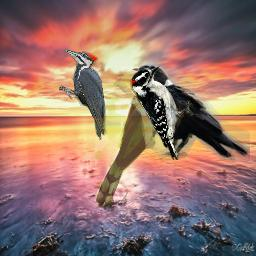Crow: (138, 60, 250, 162)
Cuckoo: (95, 66, 173, 208)
Woodpecker: (130, 66, 198, 160), (59, 49, 109, 140)
